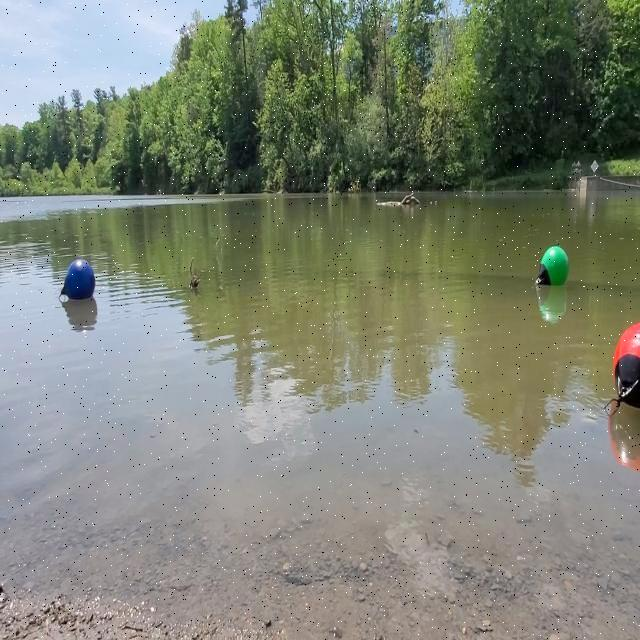buoy: (602, 316, 640, 420), (532, 244, 572, 296), (58, 256, 96, 306)
